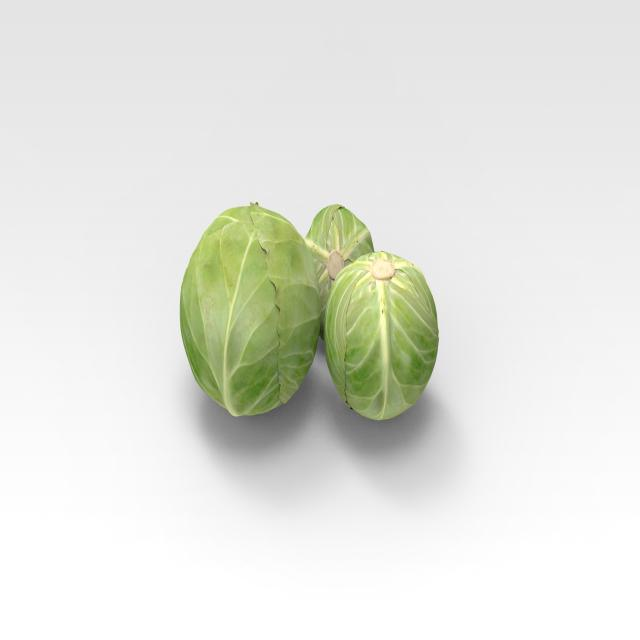cabbage: (179, 202, 321, 420), (322, 248, 442, 426), (297, 205, 377, 339)
